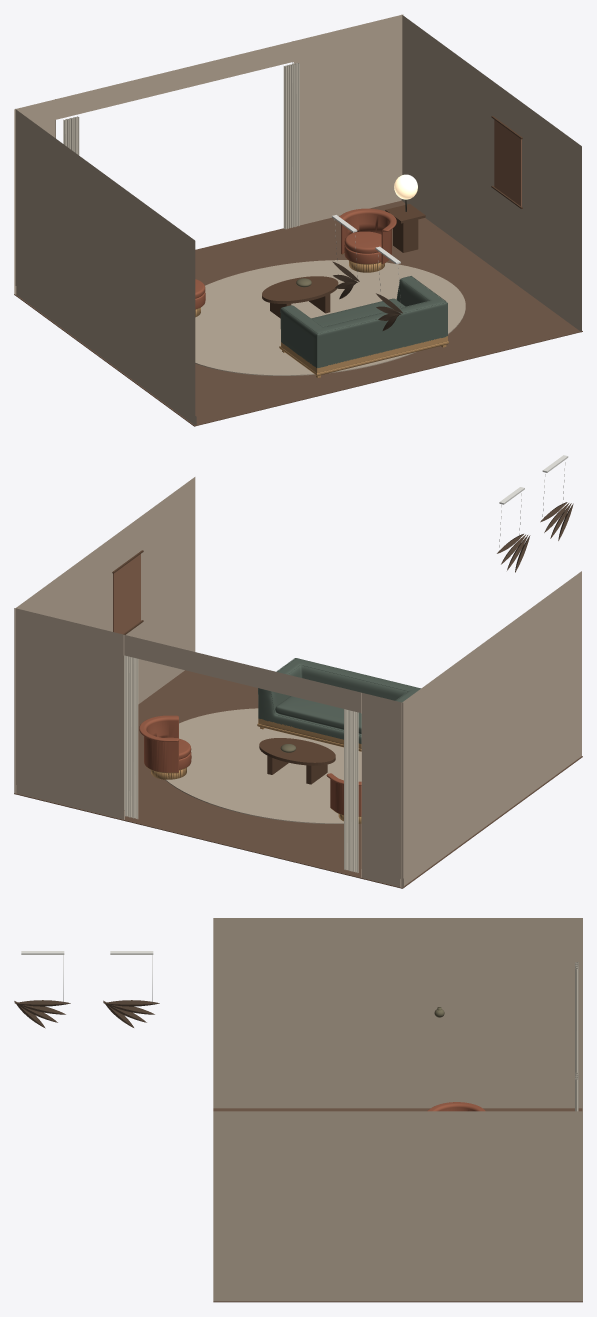
File: great-2.glb
3 renders of one model, top to bottom at view 1: azimuth 30°, elevation 25°; view 2: azimuth 150°, elevation 25°; view 3: azimuth 270°, elevation 25°, orthographic. The views are drawn at different scales.
Visible parts, largest first — view 1: DESIGN | great removable wall finish, DESIGN | great floor finish, DESIGN | Great room primary ground, DESIGN | Great room sofa facing conversation, DESIGN | Required Bellustar swivel chair two, DESIGN | Great room soft window edge.001, DESIGN | Great room linen hanging, DESIGN | R7 low conversation table, DESIGN | Side reading perch base, DESIGN | Great room soft window edge; view 2: DESIGN | great removable wall finish, DESIGN | great floor finish, DESIGN | Great room primary ground, DESIGN | Great room sofa facing conversation, DESIGN | Required Bellustar swivel chair two, DESIGN | Great room soft window edge, DESIGN | Great room soft window edge.001, DESIGN | Great room linen hanging, DESIGN | R7 low conversation table, DESIGN | Required Bellustar swivel chair one, DESIGN | Required Flou pendant 2, DESIGN | Required Flou pendant 1; view 3: DESIGN | great removable wall finish, DESIGN | great floor finish, DESIGN | Required Flou pendant 2, DESIGN | Required Flou pendant 1.
Boxes of the visible parts, left/top/right/bottom form: DESIGN | great removable wall finish: left=14, top=14, right=581, bottom=425; DESIGN | great floor finish: left=14, top=200, right=582, bottom=426; DESIGN | Great room primary ground: left=195, top=260, right=465, bottom=375; DESIGN | Great room sofa facing conversation: left=279, top=276, right=448, bottom=377; DESIGN | Required Bellustar swivel chair two: left=339, top=208, right=396, bottom=272; DESIGN | Great room soft window edge.001: left=283, top=62, right=299, bottom=229; DESIGN | Great room linen hanging: left=494, top=120, right=521, bottom=206; DESIGN | R7 low conversation table: left=262, top=276, right=338, bottom=303; DESIGN | Side reading perch base: left=393, top=219, right=418, bottom=252; DESIGN | Great room soft window edge: left=63, top=116, right=79, bottom=155; DESIGN | great removable wall finish: left=14, top=477, right=581, bottom=887; DESIGN | great floor finish: left=14, top=670, right=582, bottom=888; DESIGN | Great room primary ground: left=165, top=708, right=361, bottom=823; DESIGN | Great room sofa facing conversation: left=257, top=658, right=420, bottom=751; DESIGN | Required Bellustar swivel chair two: left=139, top=715, right=191, bottom=779; DESIGN | Great room soft window edge: left=344, top=709, right=358, bottom=873; DESIGN | Great room soft window edge.001: left=124, top=655, right=138, bottom=819; DESIGN | Great room linen hanging: left=113, top=554, right=140, bottom=634; DESIGN | R7 low conversation table: left=259, top=738, right=335, bottom=765; DESIGN | Required Bellustar swivel chair one: left=326, top=773, right=361, bottom=823; DESIGN | Required Flou pendant 2: left=497, top=534, right=530, bottom=572; DESIGN | Required Flou pendant 1: left=540, top=502, right=573, bottom=540; DESIGN | great removable wall finish: left=213, top=918, right=582, bottom=1301; DESIGN | great floor finish: left=213, top=1108, right=582, bottom=1302; DESIGN | Required Flou pendant 2: left=103, top=1000, right=159, bottom=1027; DESIGN | Required Flou pendant 1: left=14, top=1000, right=70, bottom=1028.
Size of the model in its own units: 6 by 3.04 by 7.42.
